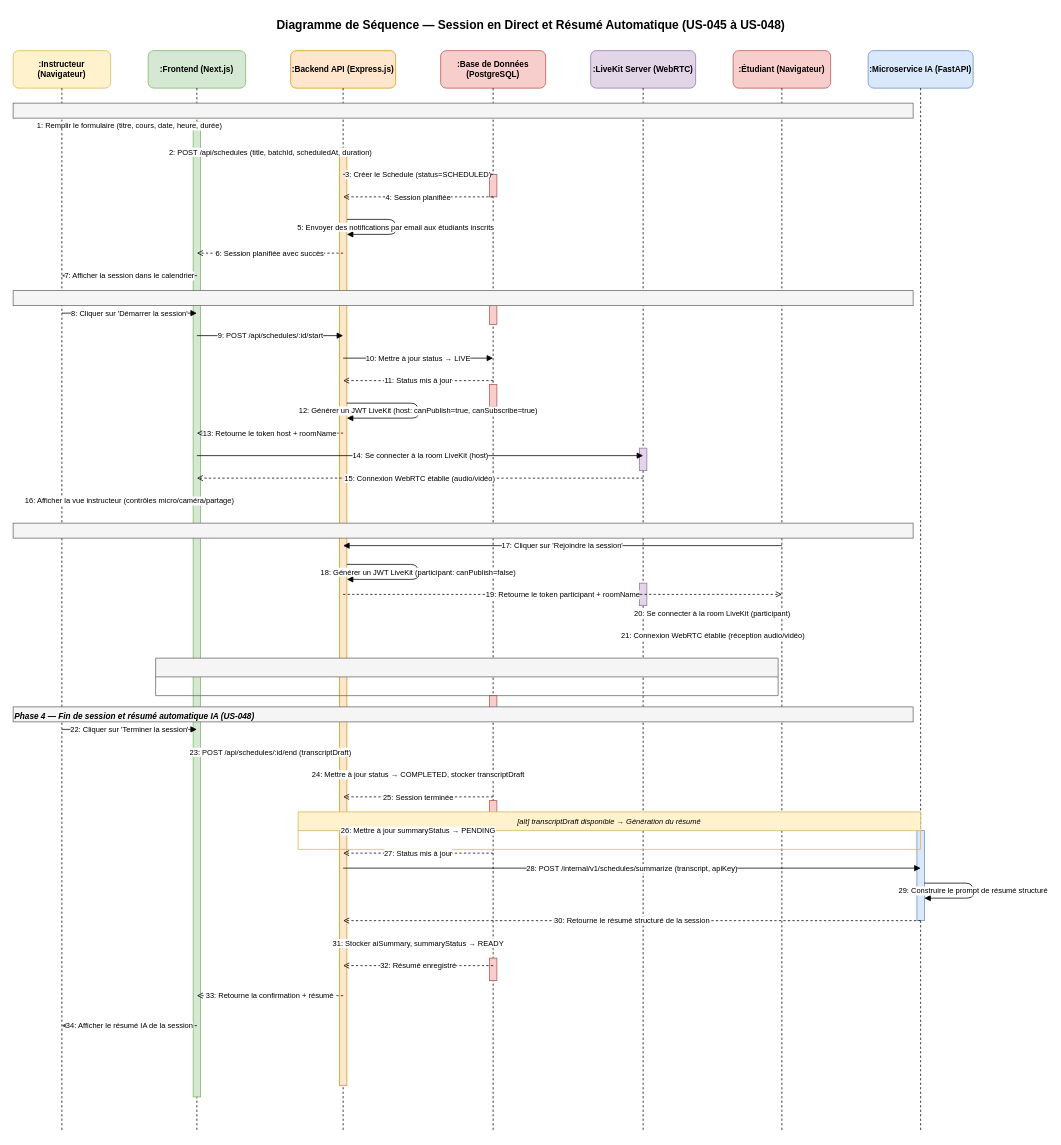
Some shapes in this 1061 by 1145 pixel diagram are drawn without their labels. Here are the shapes that lost their labels. From the top down, the centre of each, then its label:
At pixel 462 110: "Phase 1 — Planification de la session (US-045)".
At pixel 462 298: "Phase 2 — Démarrage de la session par l'instructeur (US-046)".
At pixel 462 530: "Phase 3 — Participation de l'étudiant (US-047)".
At pixel 466 676: "[loop] Communication en temps réel + collecte de la transcription".
